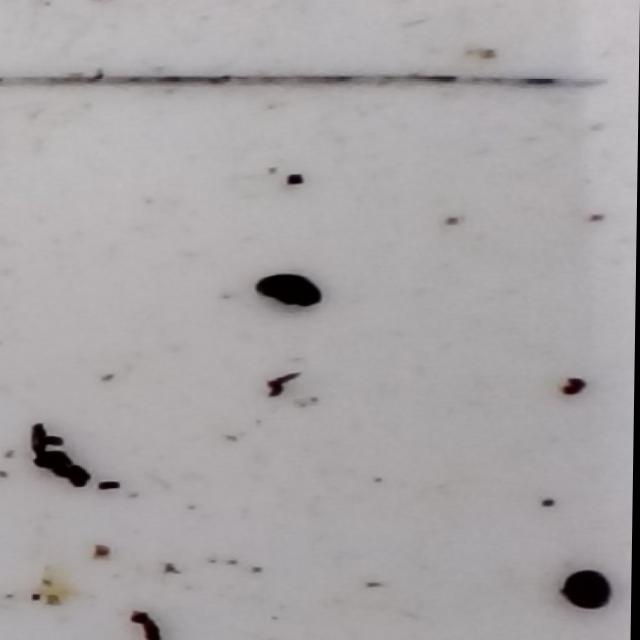varroa: (559, 566, 618, 617), (254, 271, 325, 310)
